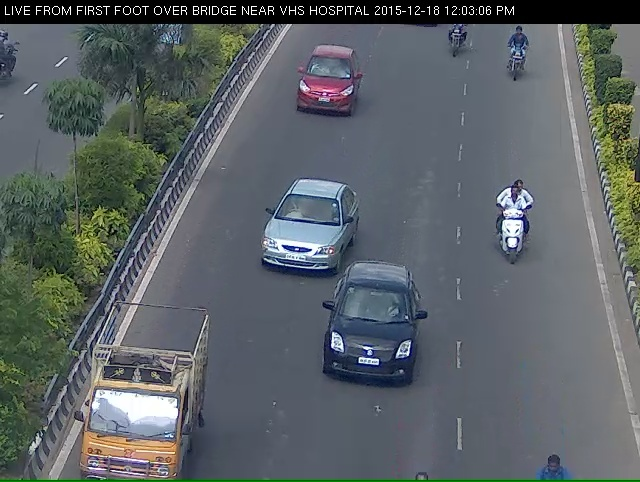Car: (69, 320, 189, 472), (327, 289, 423, 403), (261, 185, 330, 286), (287, 47, 360, 125)
Person: (486, 188, 537, 274), (500, 24, 532, 86), (438, 23, 473, 66)
